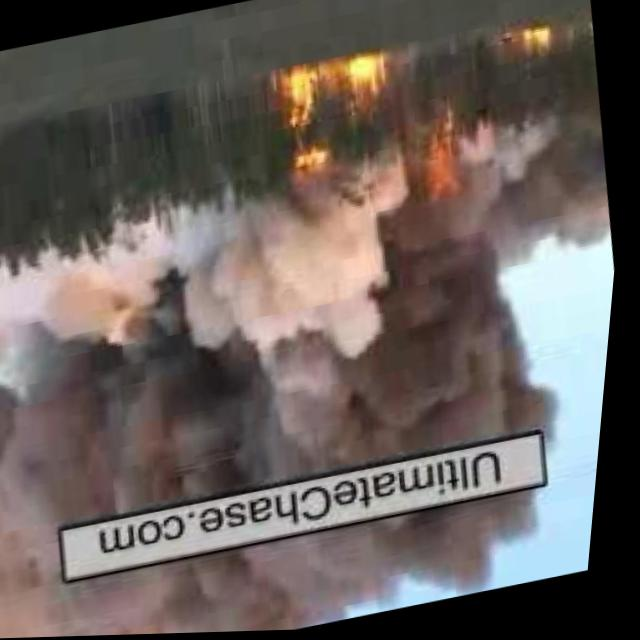Fire: (268, 53, 390, 141), (412, 129, 475, 213), (287, 144, 340, 185), (508, 22, 553, 61)
